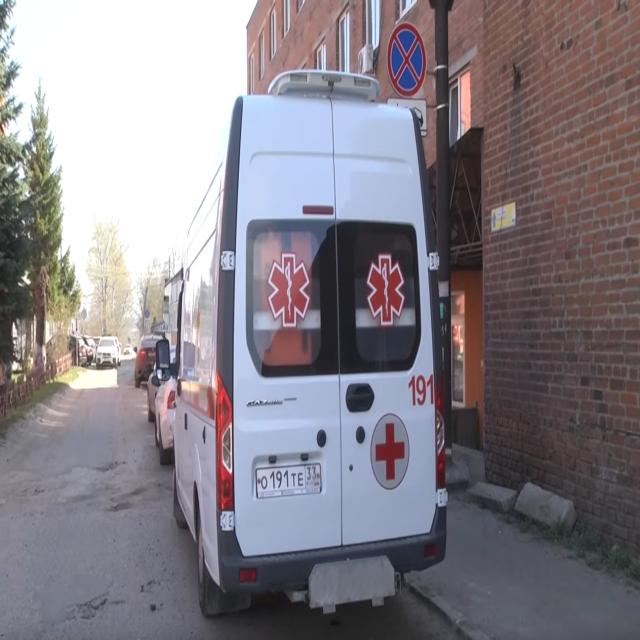ambulance: (174, 70, 449, 625)
non emergency car: (156, 351, 174, 465), (136, 336, 168, 389), (98, 336, 122, 374)
